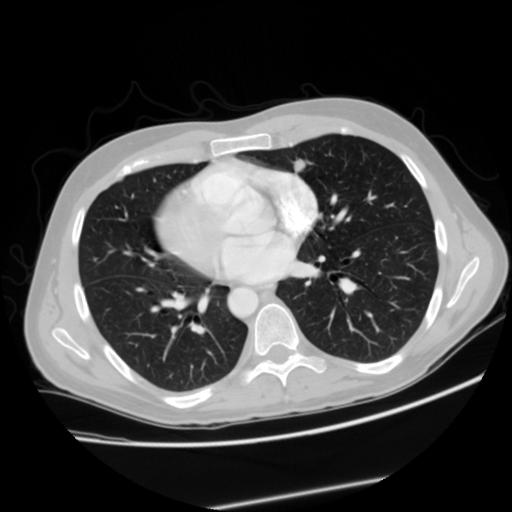nodule: (291, 154, 312, 175)
